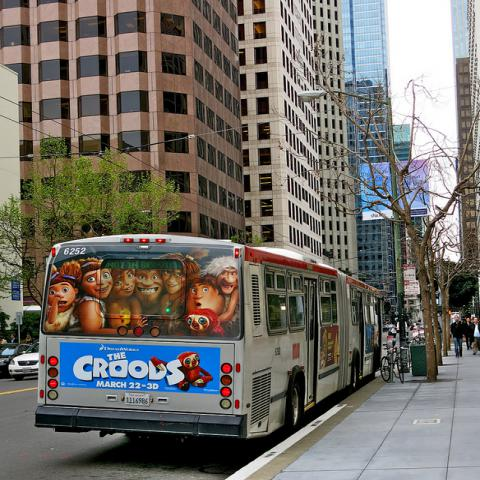bus: (32, 228, 393, 447)
car: (8, 341, 38, 381), (0, 344, 32, 368), (411, 330, 424, 339)
